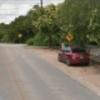cars: (57, 47, 92, 66)
